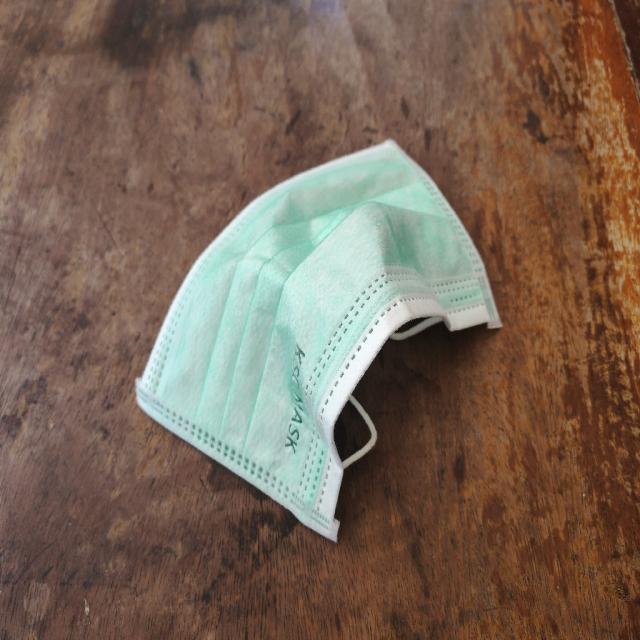face mask: (130, 132, 506, 548)
